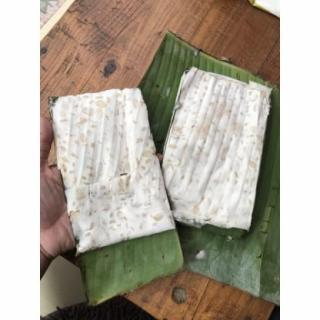Tempe: (49, 67, 273, 257)
